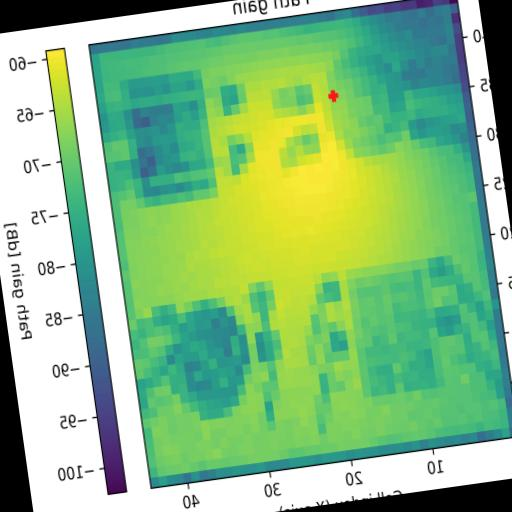Concrete: (120, 70, 218, 209)
Glass: (320, 30, 414, 160)
Metal: (152, 293, 258, 426)
Wood: (346, 260, 437, 398)
